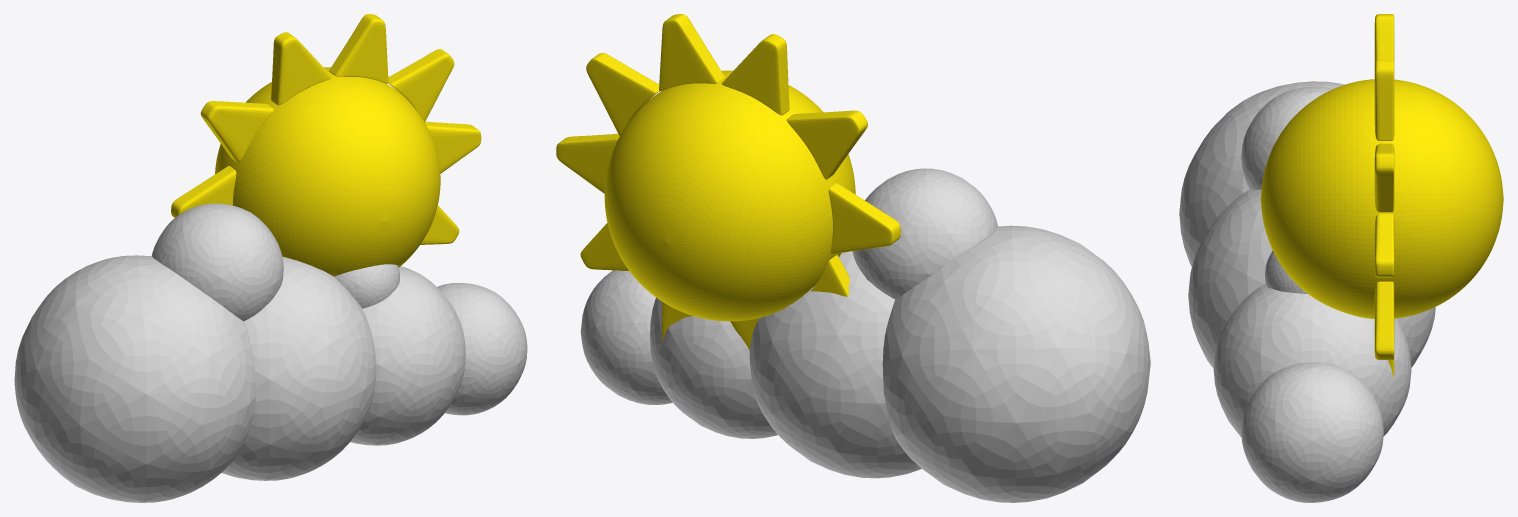
Rendered from cloudy day.fbx.
3 views of the same model, side by side, from view 1: azimuth 30°, elevation 25°; view 2: azimuth 150°, elevation 25°; view 3: azimuth 270°, elevation 25° (orthographic). The views are drawn at different scales.
Visible parts, largest first — view 1: qw.010, Сфера; view 2: qw.010, Сфера; view 3: qw.010, Сфера.
Part boxes in pixels (x1=…): qw.010: x1=14, y1=203, x2=527, y2=502; Сфера: x1=171, y1=14, x2=481, y2=276; qw.010: x1=580, y1=168, x2=1150, y2=502; Сфера: x1=556, y1=14, x2=900, y2=349; qw.010: x1=1179, y1=81, x2=1435, y2=502; Сфера: x1=1260, y1=14, x2=1503, y2=376.
Size of the model in its own units: 414 by 224 by 323.
